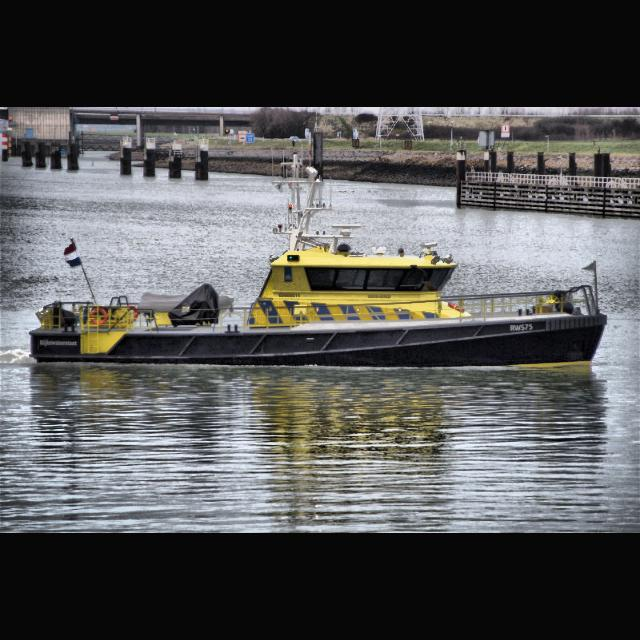patrol_vessel: (26, 160, 610, 372)
